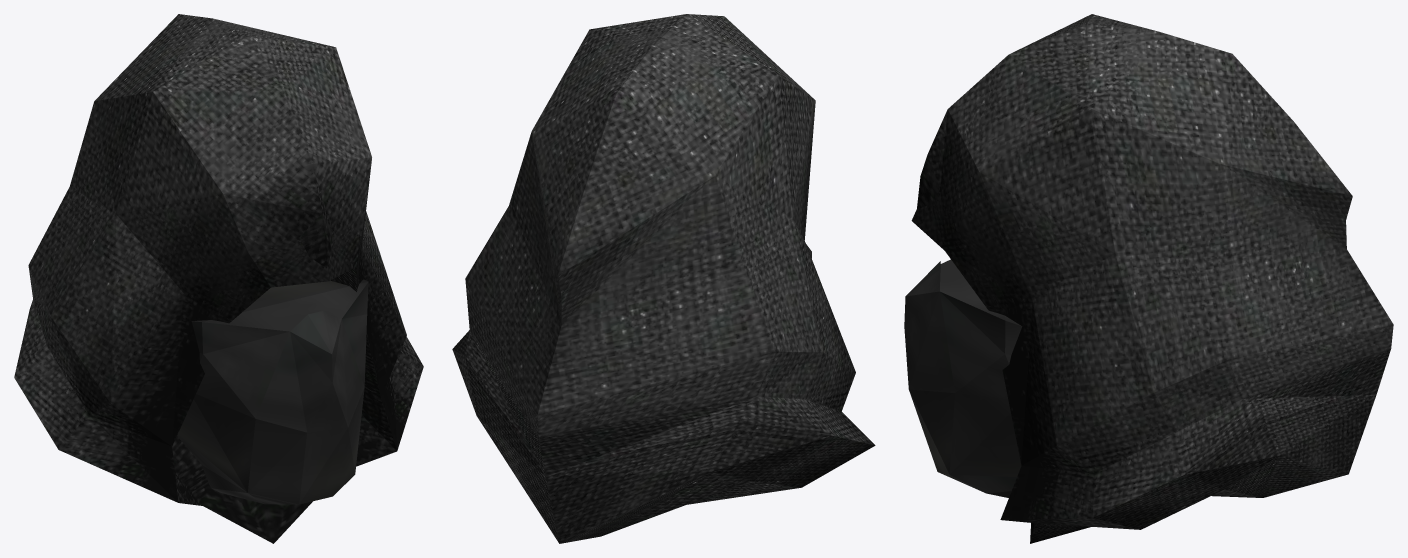
Rendered from MASK_SZ.glb.
3 renders of one model, left to right at view 1: azimuth 30°, elevation 25°; view 2: azimuth 150°, elevation 25°; view 3: azimuth 270°, elevation 25°, orthographic. The views are drawn at different scales.
Visible parts, largest first — view 1: MASK_SZ; view 2: MASK_SZ; view 3: MASK_SZ.
Part boxes in pixels (x1,y1,x2,y2): MASK_SZ: [14, 14, 423, 543]; MASK_SZ: [452, 14, 875, 543]; MASK_SZ: [904, 14, 1393, 543].
Bounding box in the file's own units: 0.3241 × 0.4106 × 0.3501.
2 materials, 2 textured.
